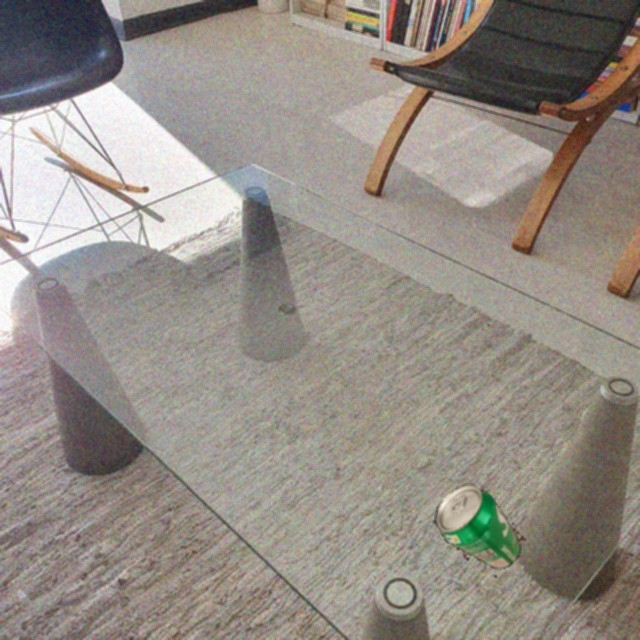sprite: (424, 474, 535, 585)
